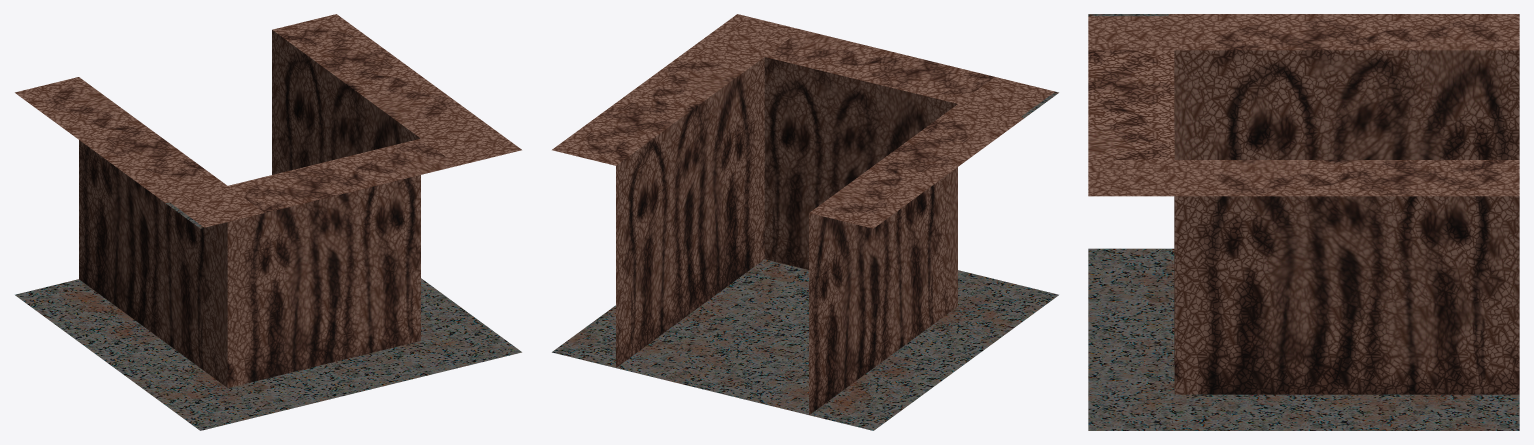
Rendered from Dead_End.fbx.
The picture shows the model from 3 angles, left to right: view 1: azimuth 30°, elevation 25°; view 2: azimuth 150°, elevation 25°; view 3: azimuth 270°, elevation 25°; orthographic projection. The views are drawn at different scales.
Parts seen in each view (by area): view 1: Dead_End; view 2: Dead_End; view 3: Dead_End.
Part boxes in pixels (x1,y1,x2,y2): Dead_End: [15, 14, 521, 430]; Dead_End: [552, 14, 1058, 430]; Dead_End: [1088, 14, 1519, 430].
Bounding box in the file's own units: 100 × 60 × 100.
Materials: 1 (1 with a texture image).
